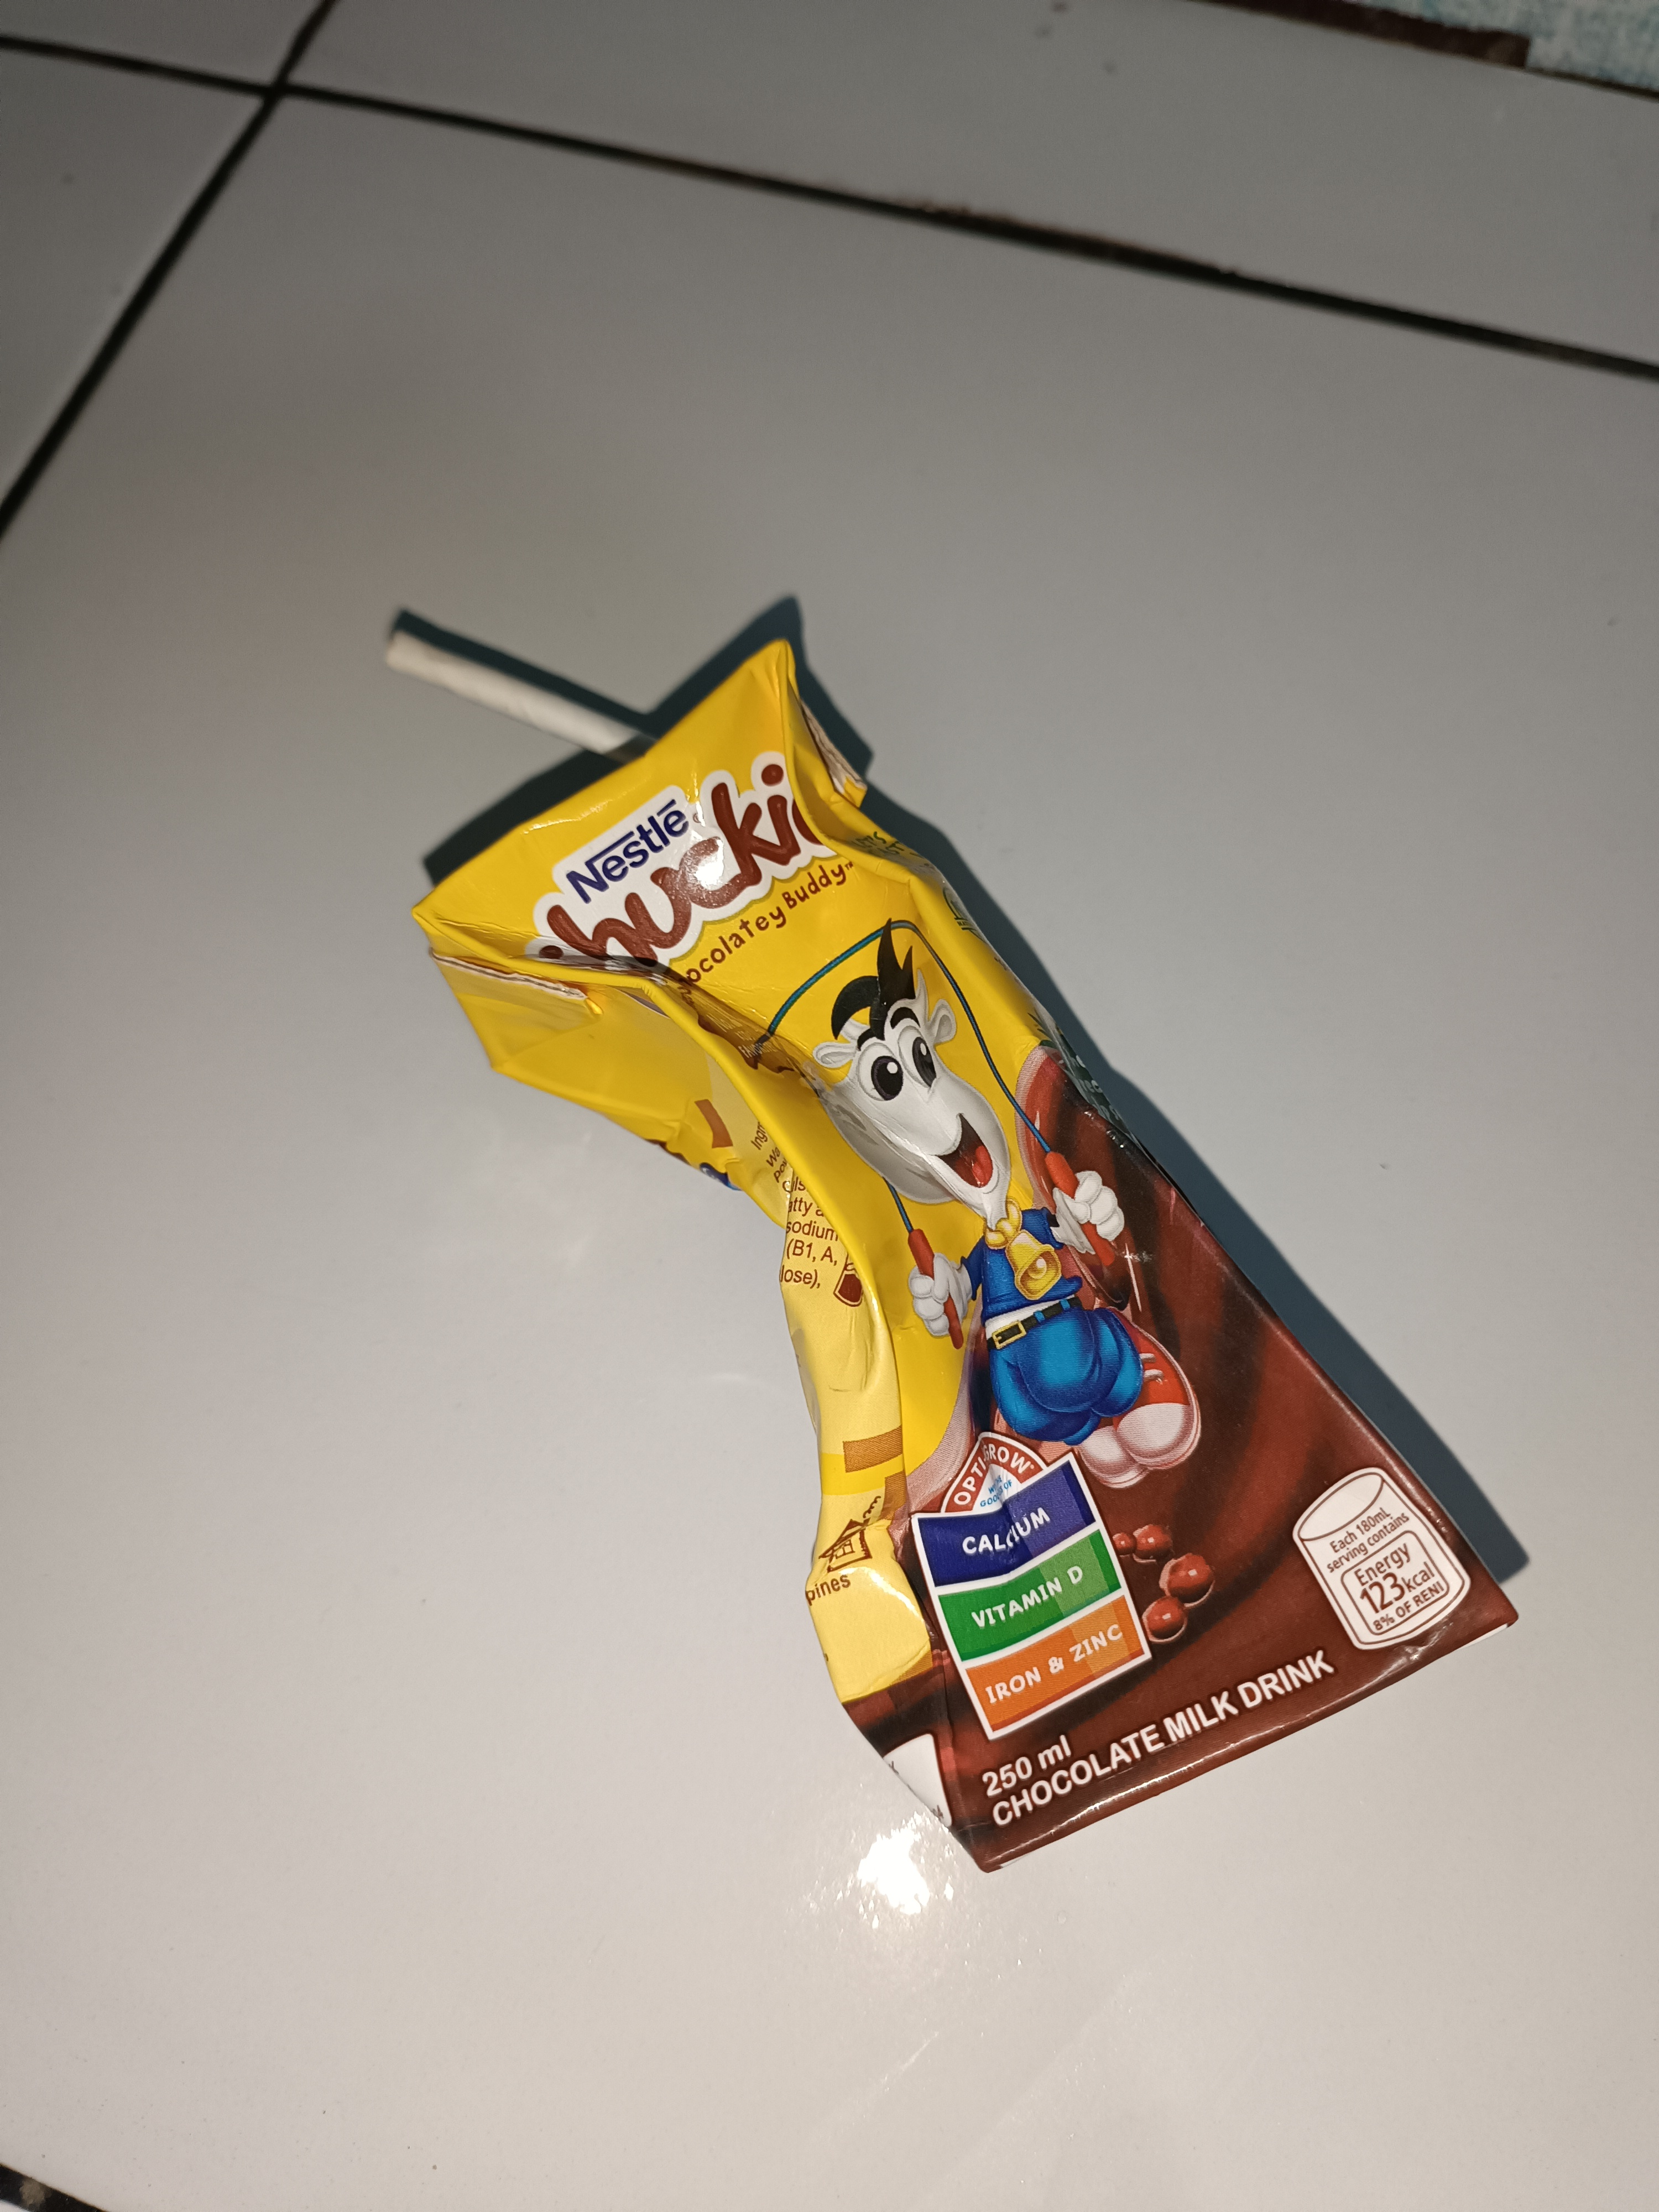Juice Box: (185, 449, 1500, 1869)
